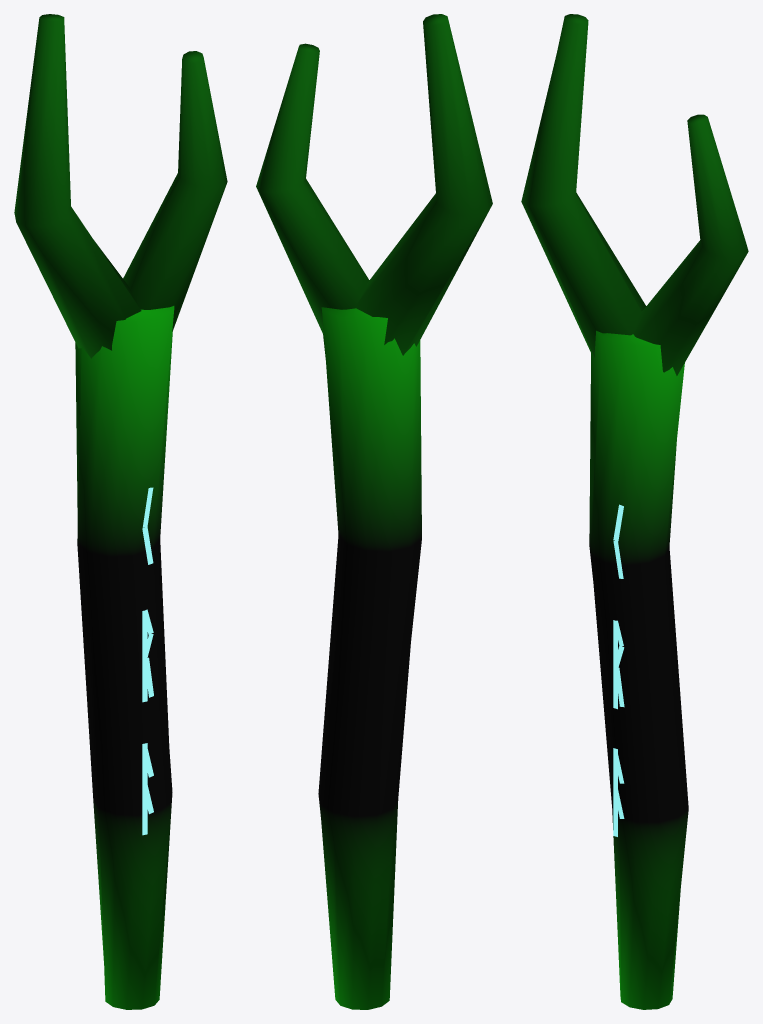
Rendered from Part_CarvedHandle.fbx.
The picture shows the model from 3 angles, left to right: view 1: azimuth 30°, elevation 25°; view 2: azimuth 150°, elevation 25°; view 3: azimuth 330°, elevation 25°; orthographic projection. The views are drawn at different scales.
Visible parts, largest first — view 1: Part_CarvedHandle_JoinedTemp; view 2: Part_CarvedHandle_JoinedTemp; view 3: Part_CarvedHandle_JoinedTemp.
Boxes of the visible parts, bbox=[...] form: Part_CarvedHandle_JoinedTemp: bbox=[14, 14, 227, 1009]; Part_CarvedHandle_JoinedTemp: bbox=[256, 14, 492, 1009]; Part_CarvedHandle_JoinedTemp: bbox=[521, 14, 748, 1009].
Bounding box in the file's own units: 0.1365 × 0.6013 × 0.0534.
